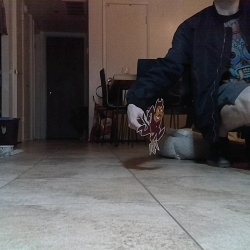sparky: (136, 98, 166, 156)
